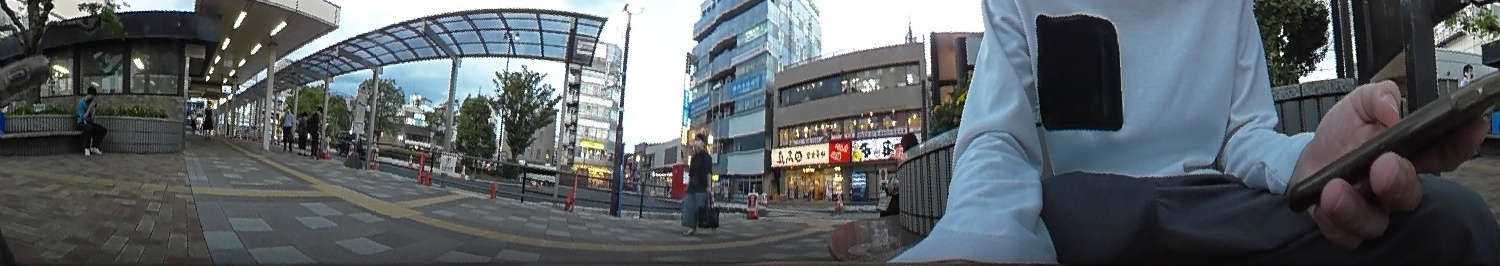difficult_person: (198, 96, 220, 137), (276, 103, 296, 148), (306, 110, 323, 161), (294, 113, 309, 155)
person: (672, 130, 726, 229), (862, 133, 928, 210), (64, 79, 115, 156), (1447, 52, 1481, 85), (276, 103, 296, 148)
